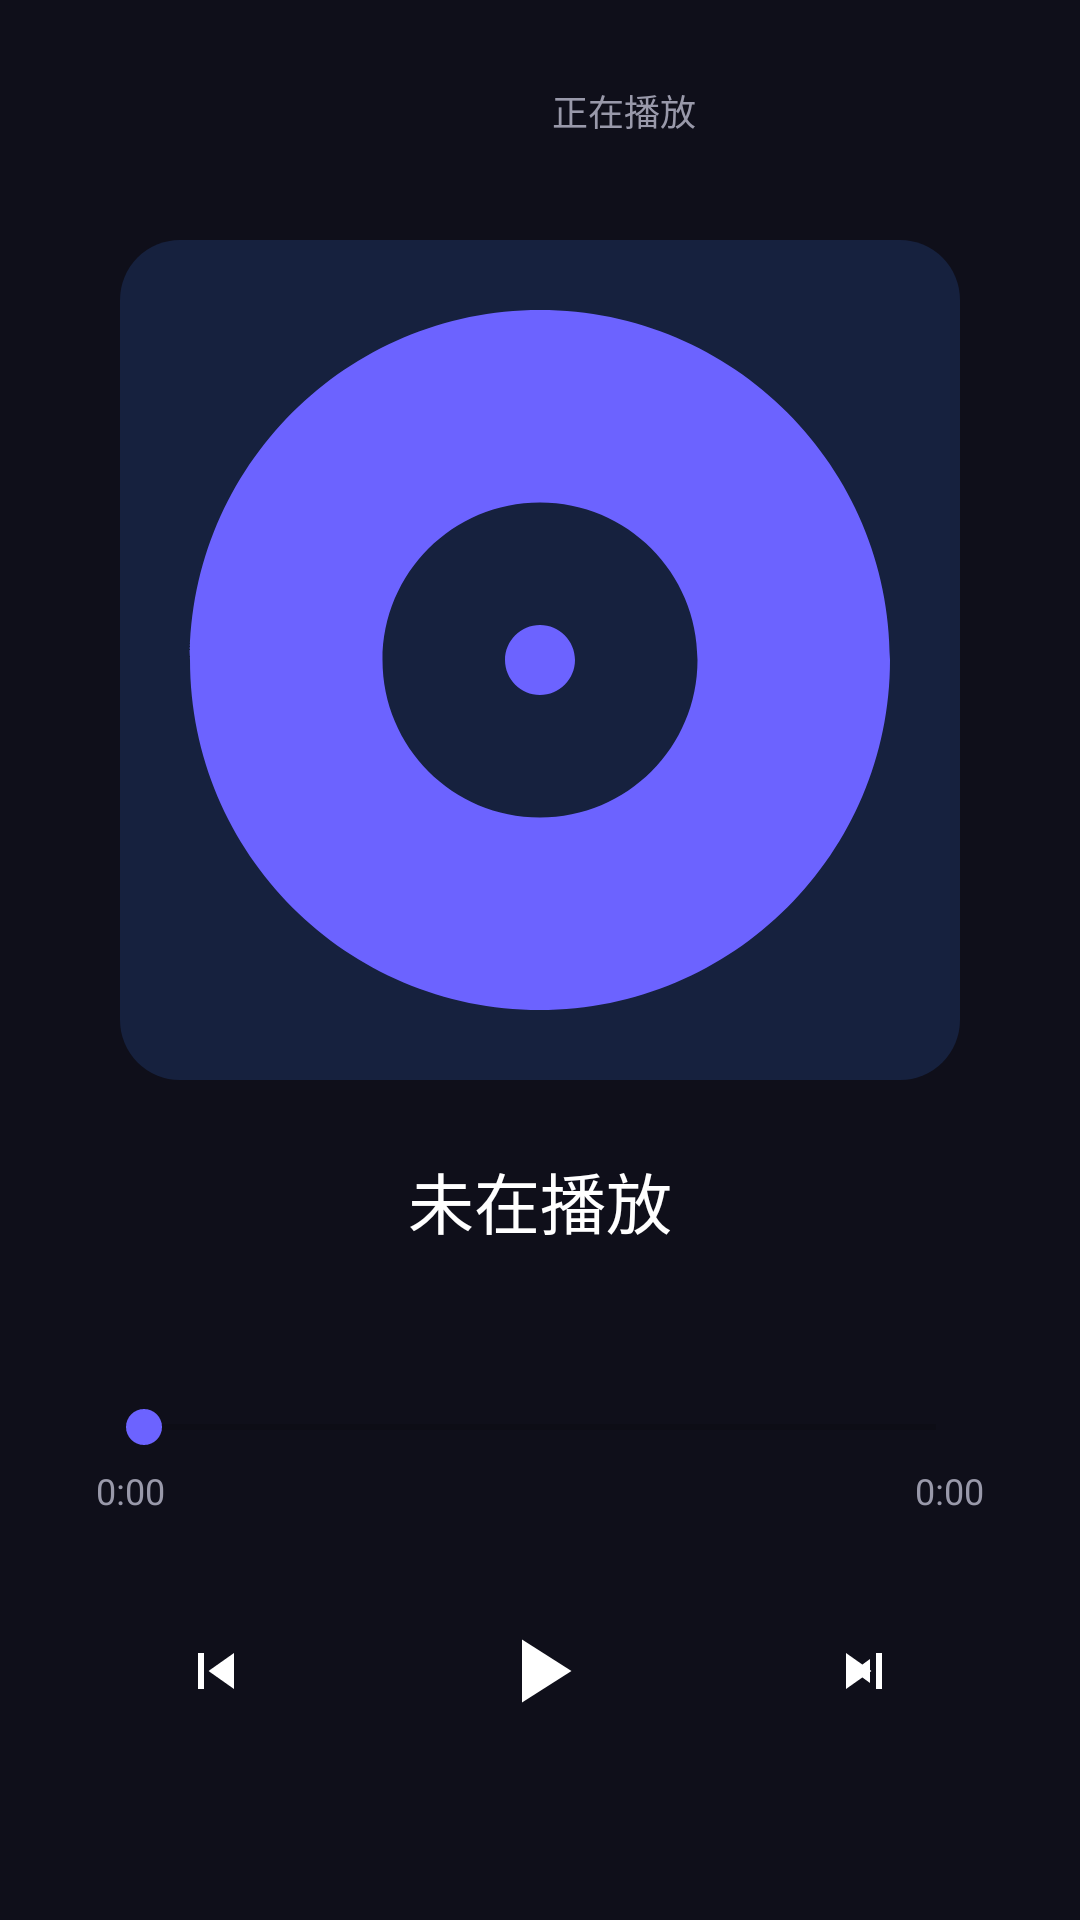

Screen size 1080w x 1920h. Icon name, then its center in pixels as [x,y]:
play: [546,1671]
skip next: [864,1671]
skip previous: [216,1671]
